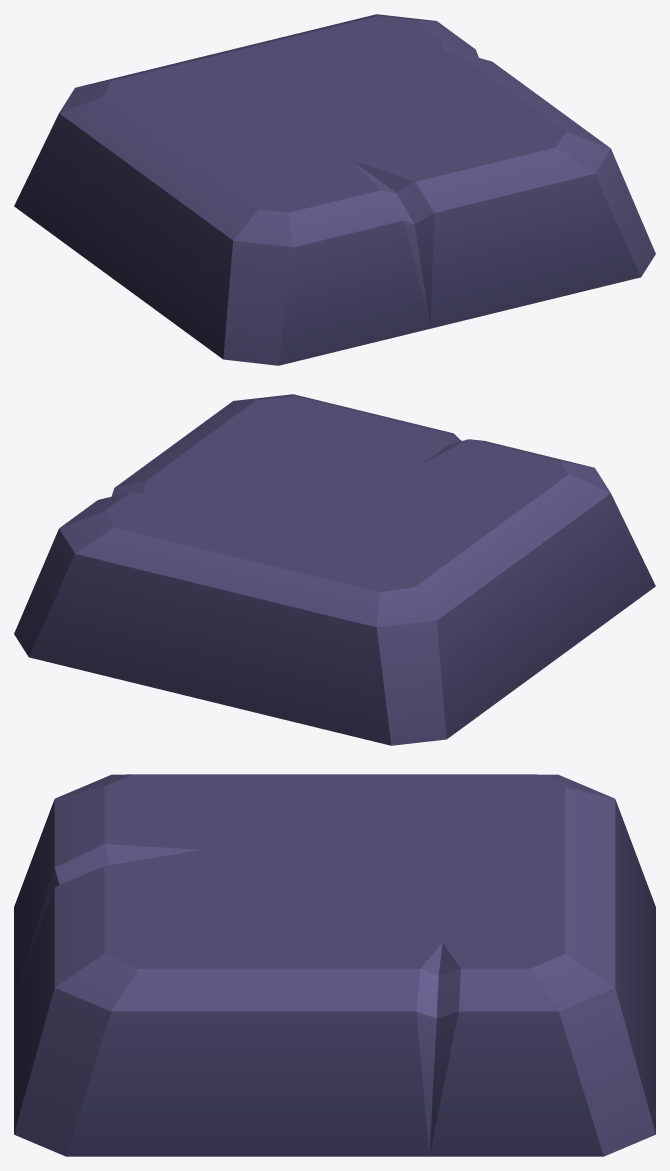
Rendered from tile_2.glb.
3 renders of one model, top to bottom at view 1: azimuth 30°, elevation 25°; view 2: azimuth 150°, elevation 25°; view 3: azimuth 270°, elevation 25°, orthographic. The views are drawn at different scales.
Visible parts, largest first — view 1: tile_2; view 2: tile_2; view 3: tile_2.
Part boxes in pixels (box(x1,y1,x2,y2)): tile_2: box(14, 14, 655, 365); tile_2: box(14, 394, 655, 745); tile_2: box(14, 774, 655, 1156).
Bounding box in the file's own units: 2 × 0.513 × 2.
1 material, 1 textured.
